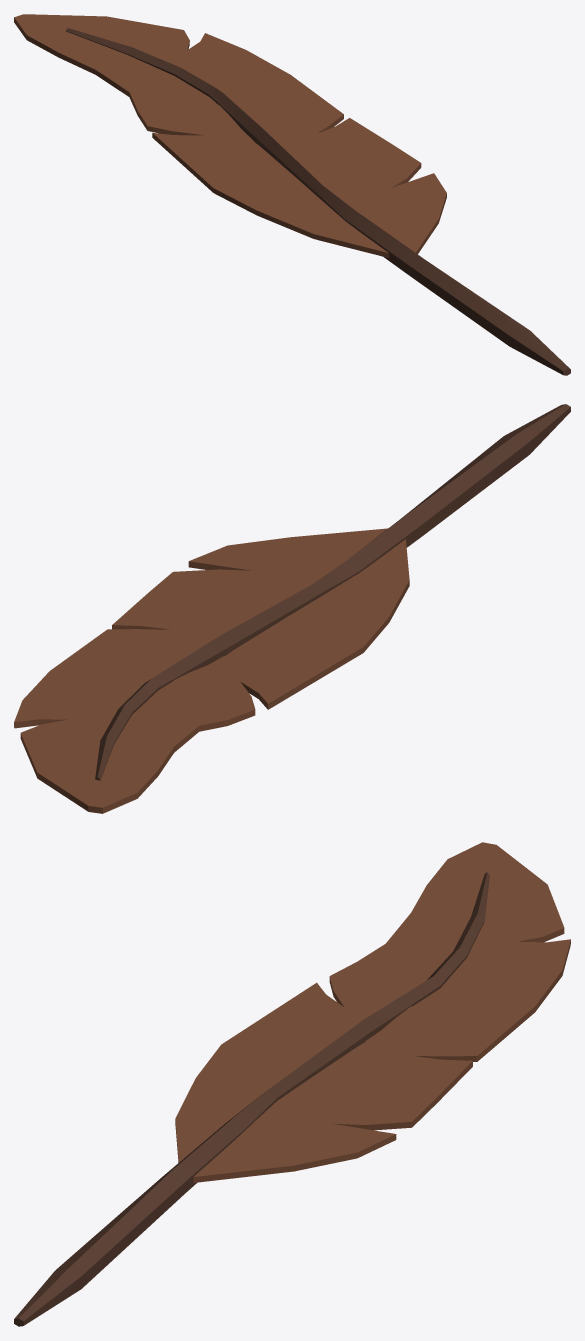
File: Feather_02.fbx
3 renders of one model, top to bottom at view 1: azimuth 30°, elevation 25°; view 2: azimuth 150°, elevation 25°; view 3: azimuth 330°, elevation 25°, orthographic. The views are drawn at different scales.
Visible parts, largest first — view 1: Feather_02; view 2: Feather_02; view 3: Feather_02.
Part boxes in pixels (<box>): Feather_02: <box>14,14,570,375</box>; Feather_02: <box>14,404,570,813</box>; Feather_02: <box>14,842,570,1326</box>.
Size of the model in its own units: 0.0405 by 0.0087 by 0.1802.
